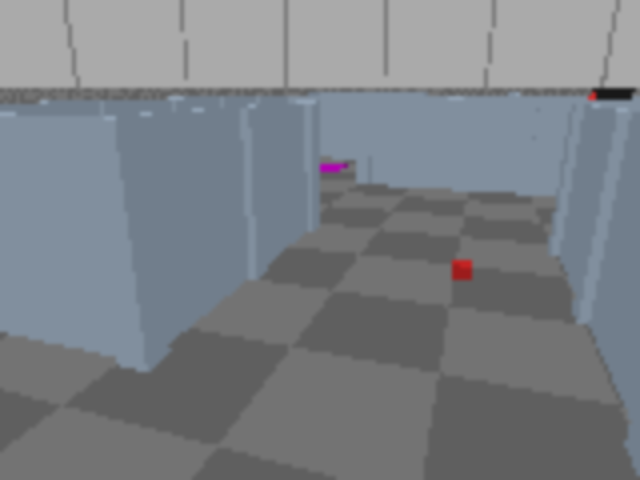puck: (451, 260, 471, 281)
